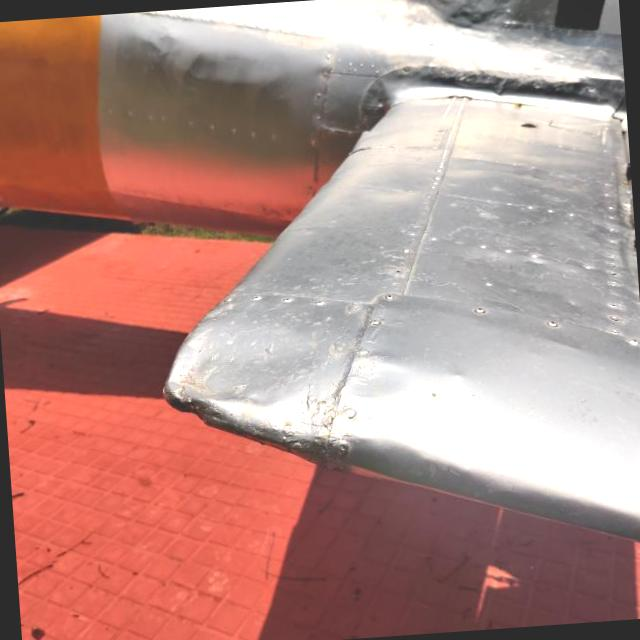dent: (157, 288, 354, 455), (334, 354, 412, 413)
